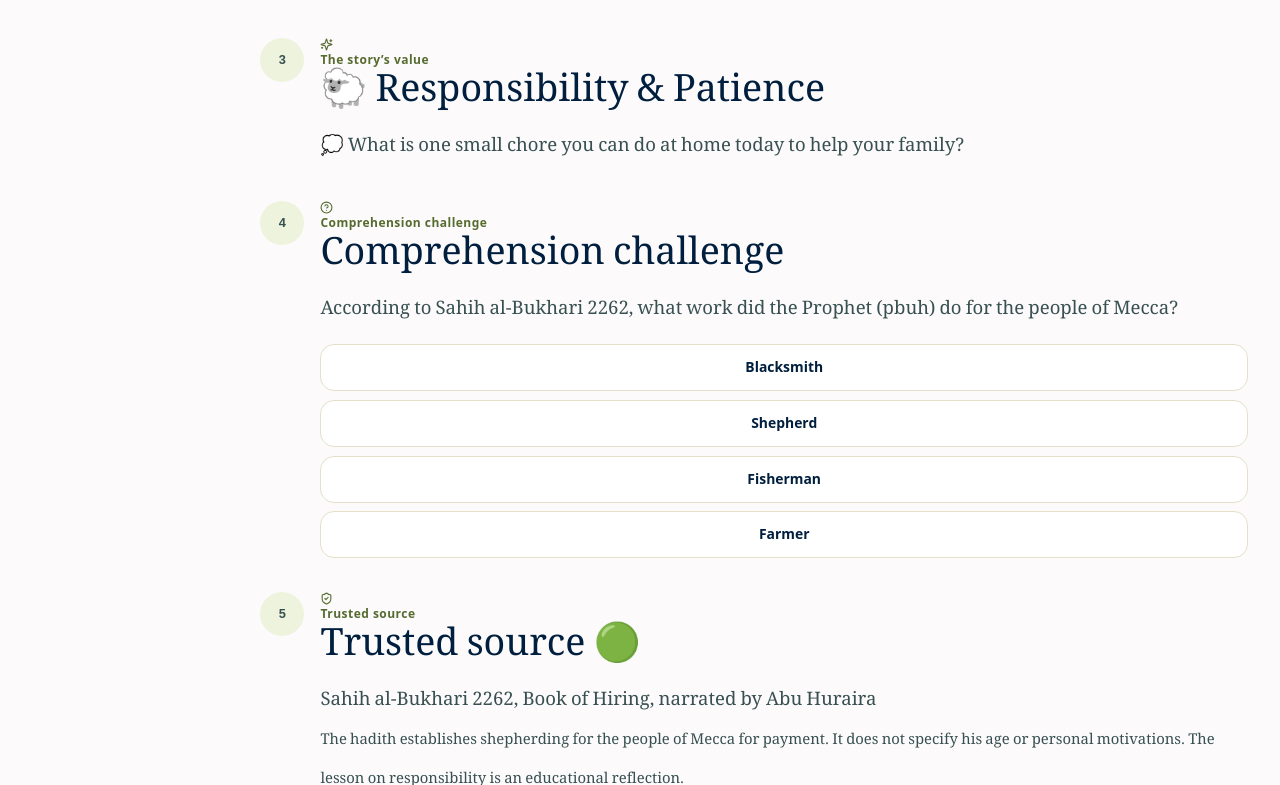
Scenario: warns on failed saving and lets the child retry without losing the completed state
This screenshot has width=1280, height=785.
(page scrolled)
Click the button "Shepherd": (784,424) x1=320 y1=400 x2=1248 y2=447
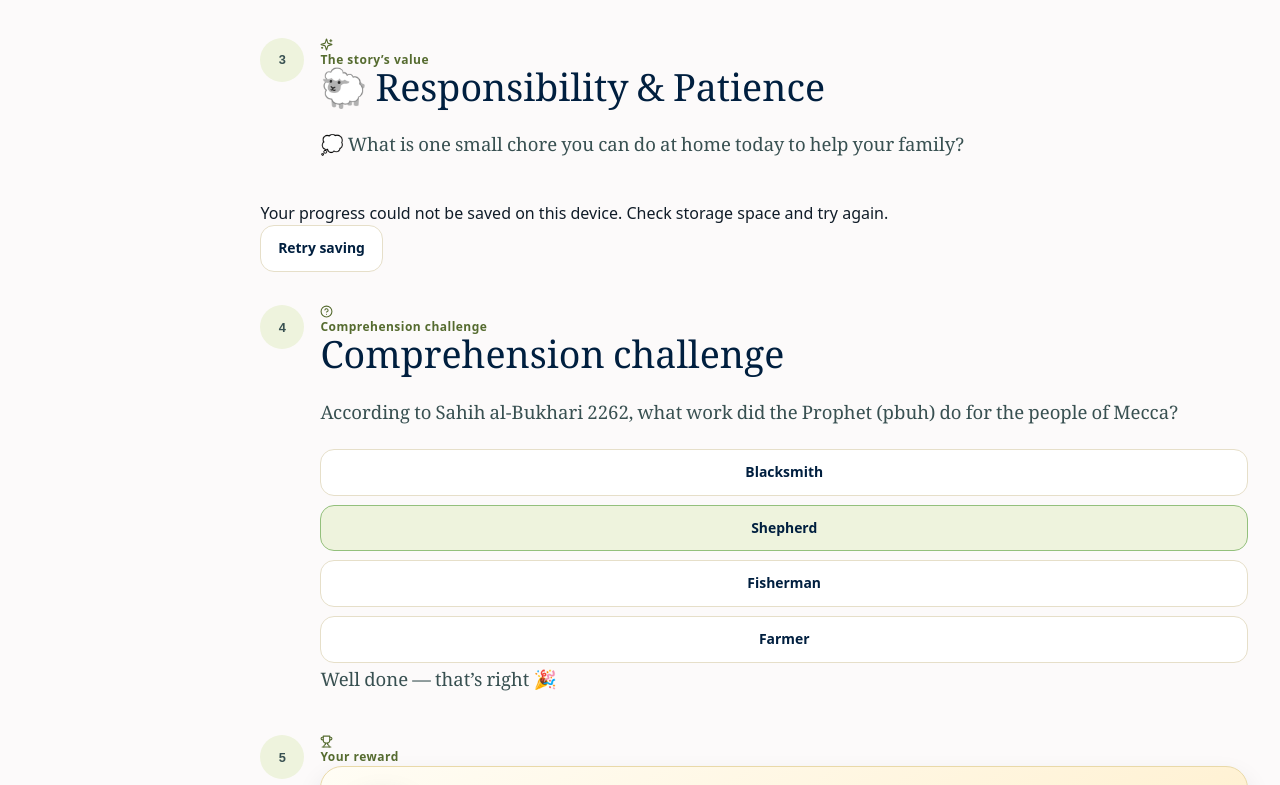
expect the message shows "could not be saved": met, box x1=260 y1=202 x2=888 y2=224
Click the button "Retry saving": (322,248) x1=260 y1=225 x2=383 y2=272
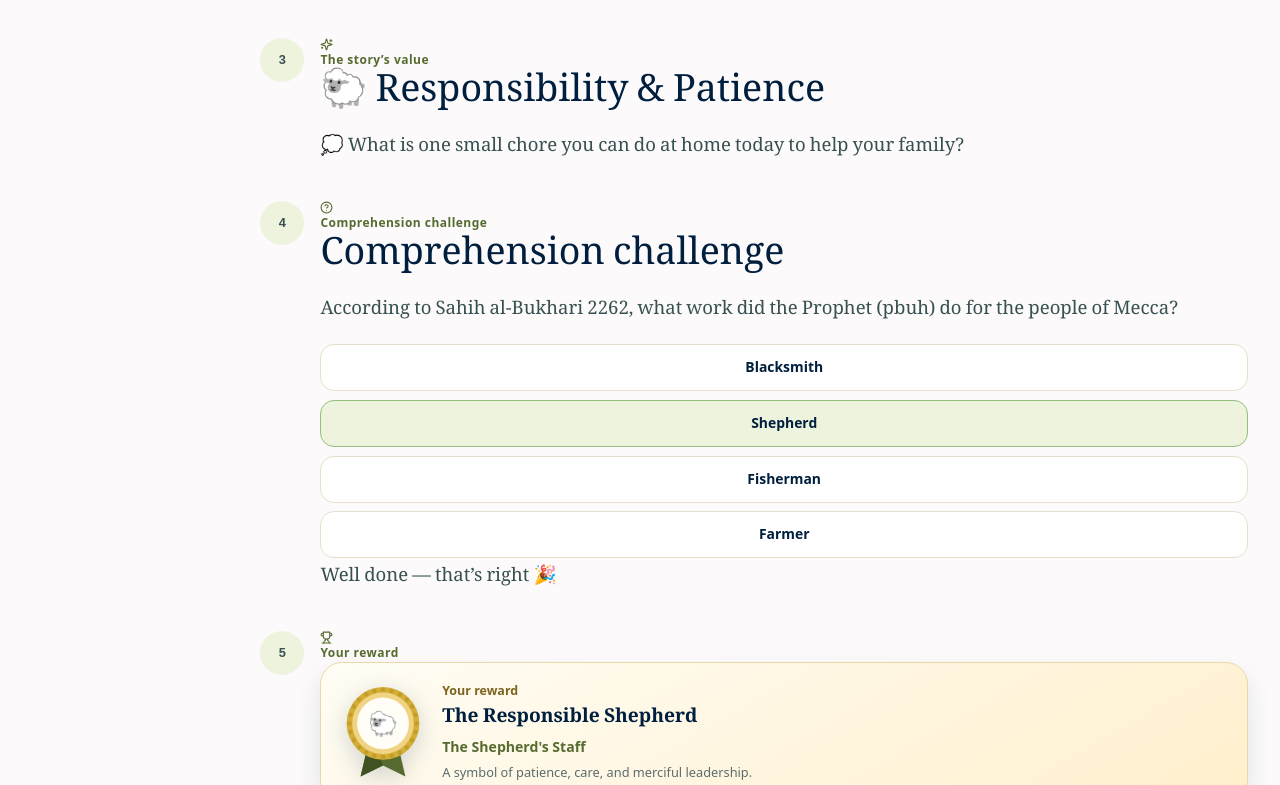
expect the message is gone: met
